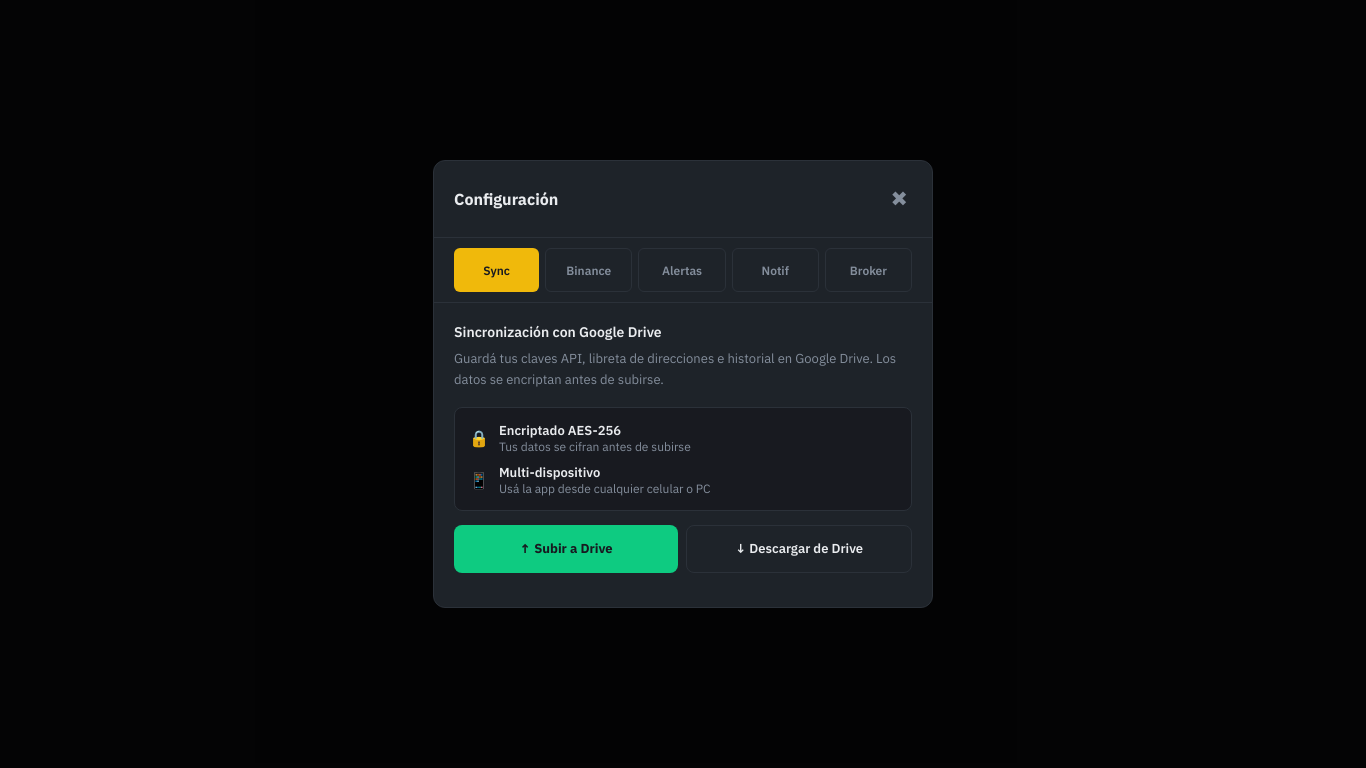
Test: Settings Component › Drive upload success: muestra mensaje de éxito
The width and height of the screenshot is (1366, 768).
Step 1. Click the button "↑ Subir a Drive" → (566,549), box [454, 525, 678, 573]
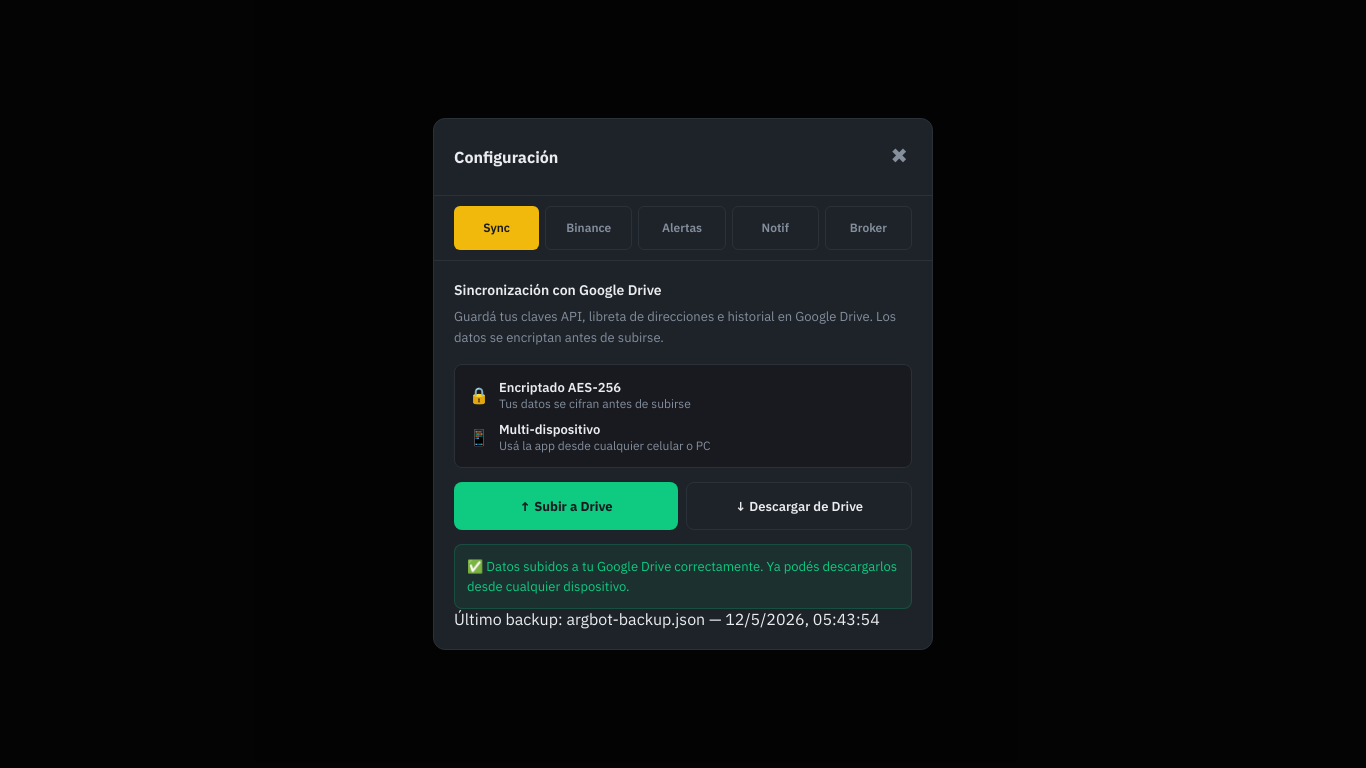
Expected: the text "Datos subidos a tu Google Drive correctamente" is shown, [467, 558, 897, 595]
